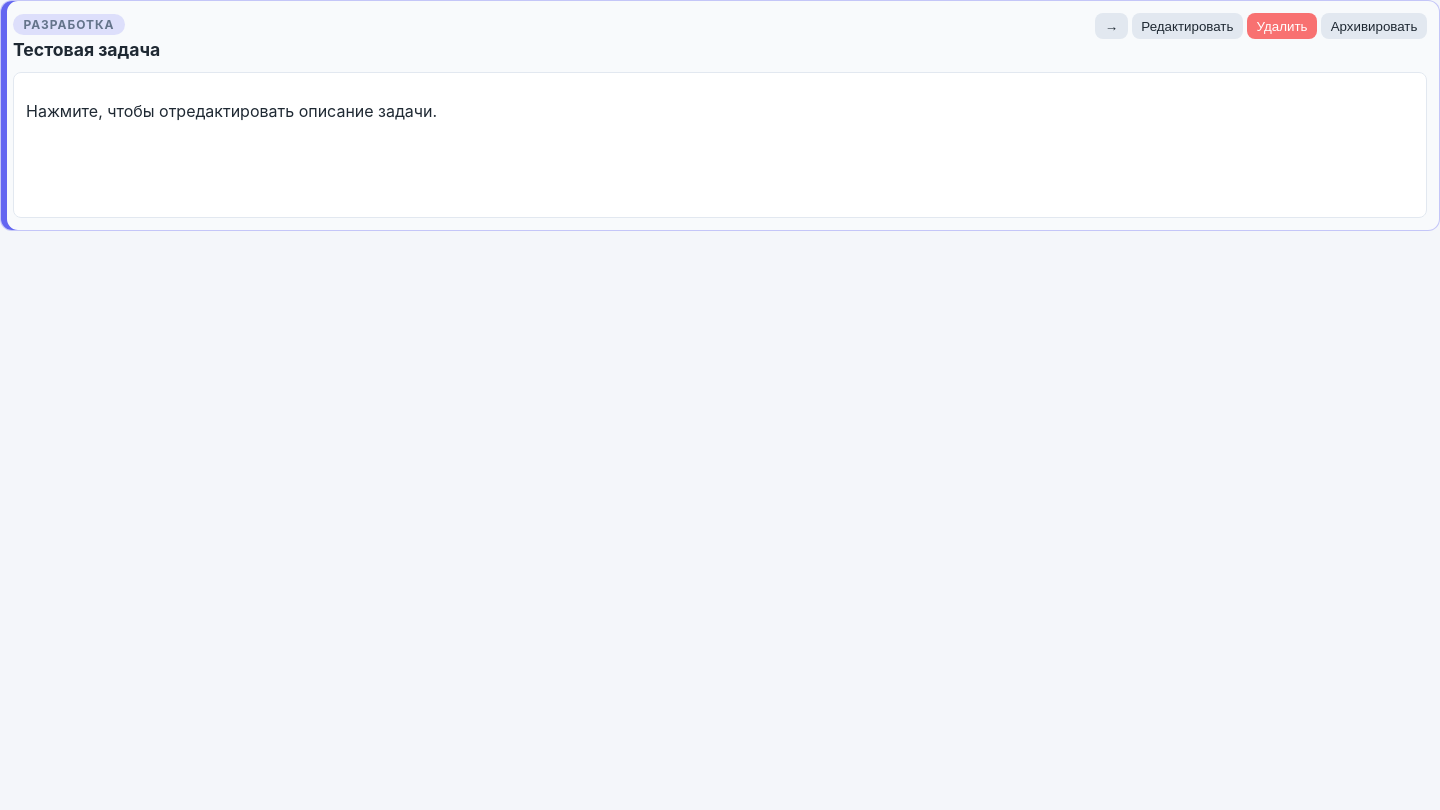
Test: TaskCard placeholder behaviour › opens the edit modal when clicking the placeholder content
Click the button with aria-label "Добавить описание задачи" at (720, 145), box left=13, top=72, right=1427, bottom=218
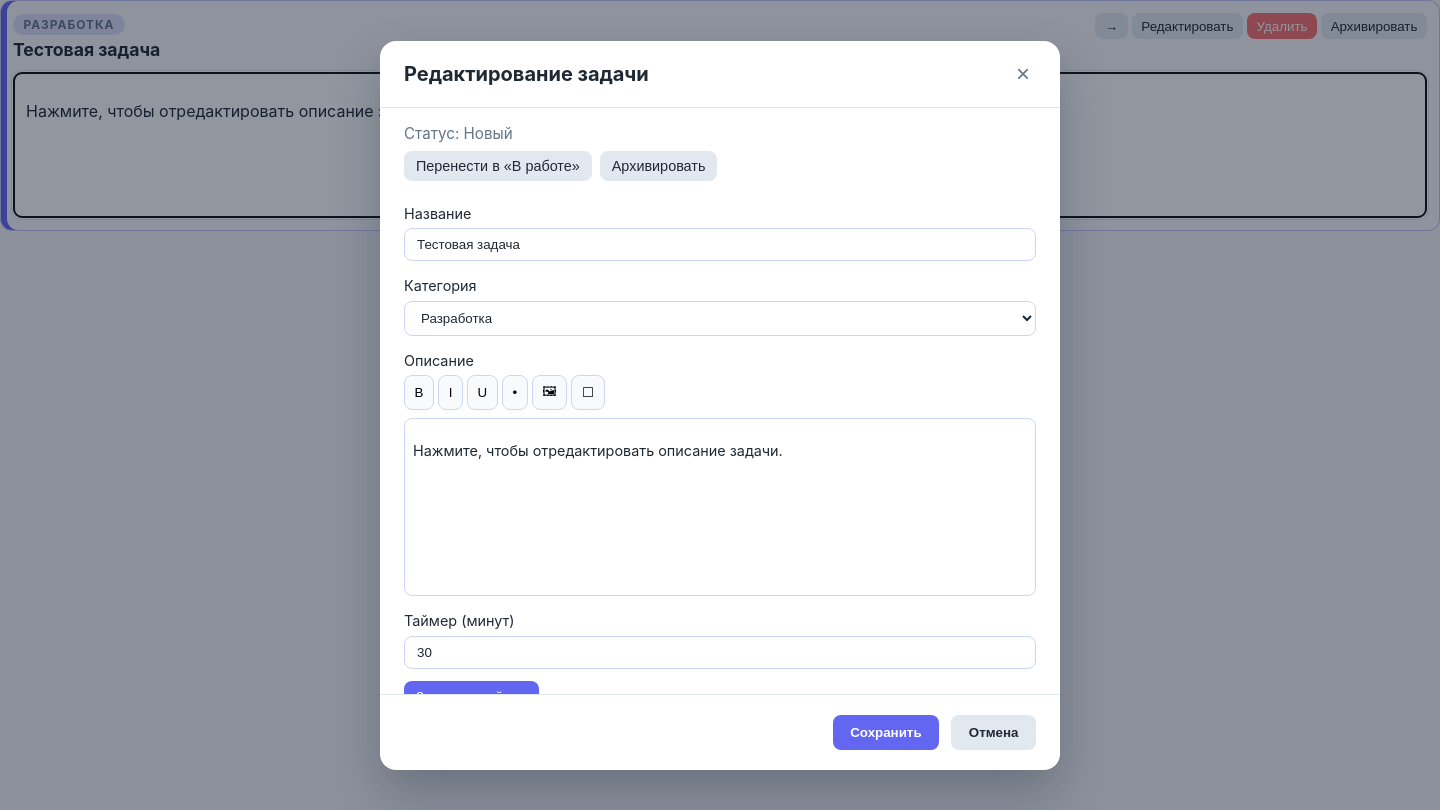
Expected: the dialog "Редактирование задачи" is shown, left=380, top=40, right=1060, bottom=770
